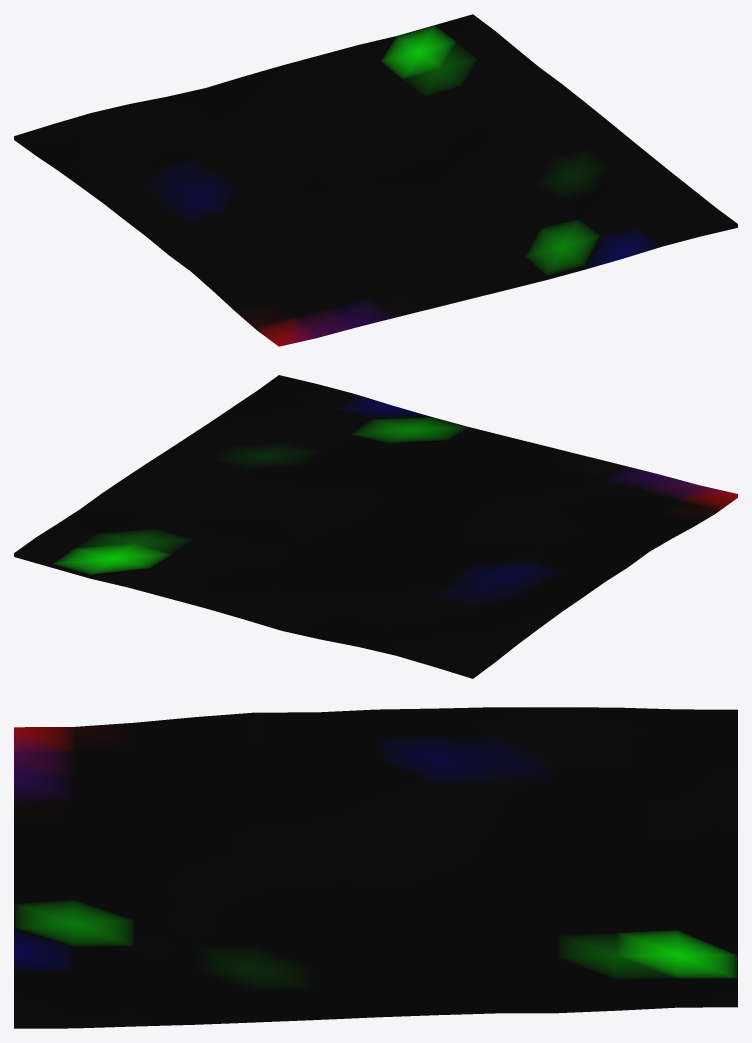
File: coast_22_7.glb
The picture shows the model from 3 angles, top to bottom: view 1: azimuth 30°, elevation 25°; view 2: azimuth 150°, elevation 25°; view 3: azimuth 270°, elevation 25°; orthographic projection. The views are drawn at different scales.
Visible parts, largest first — view 1: terrain; view 2: terrain; view 3: terrain.
Boxes of the visible parts, box(x1,y1,x2,y2) form: terrain: box(14, 14, 737, 346); terrain: box(14, 375, 737, 678); terrain: box(14, 707, 737, 1028).
Bounding box in the file's own units: 192 × 10.87 × 192.
